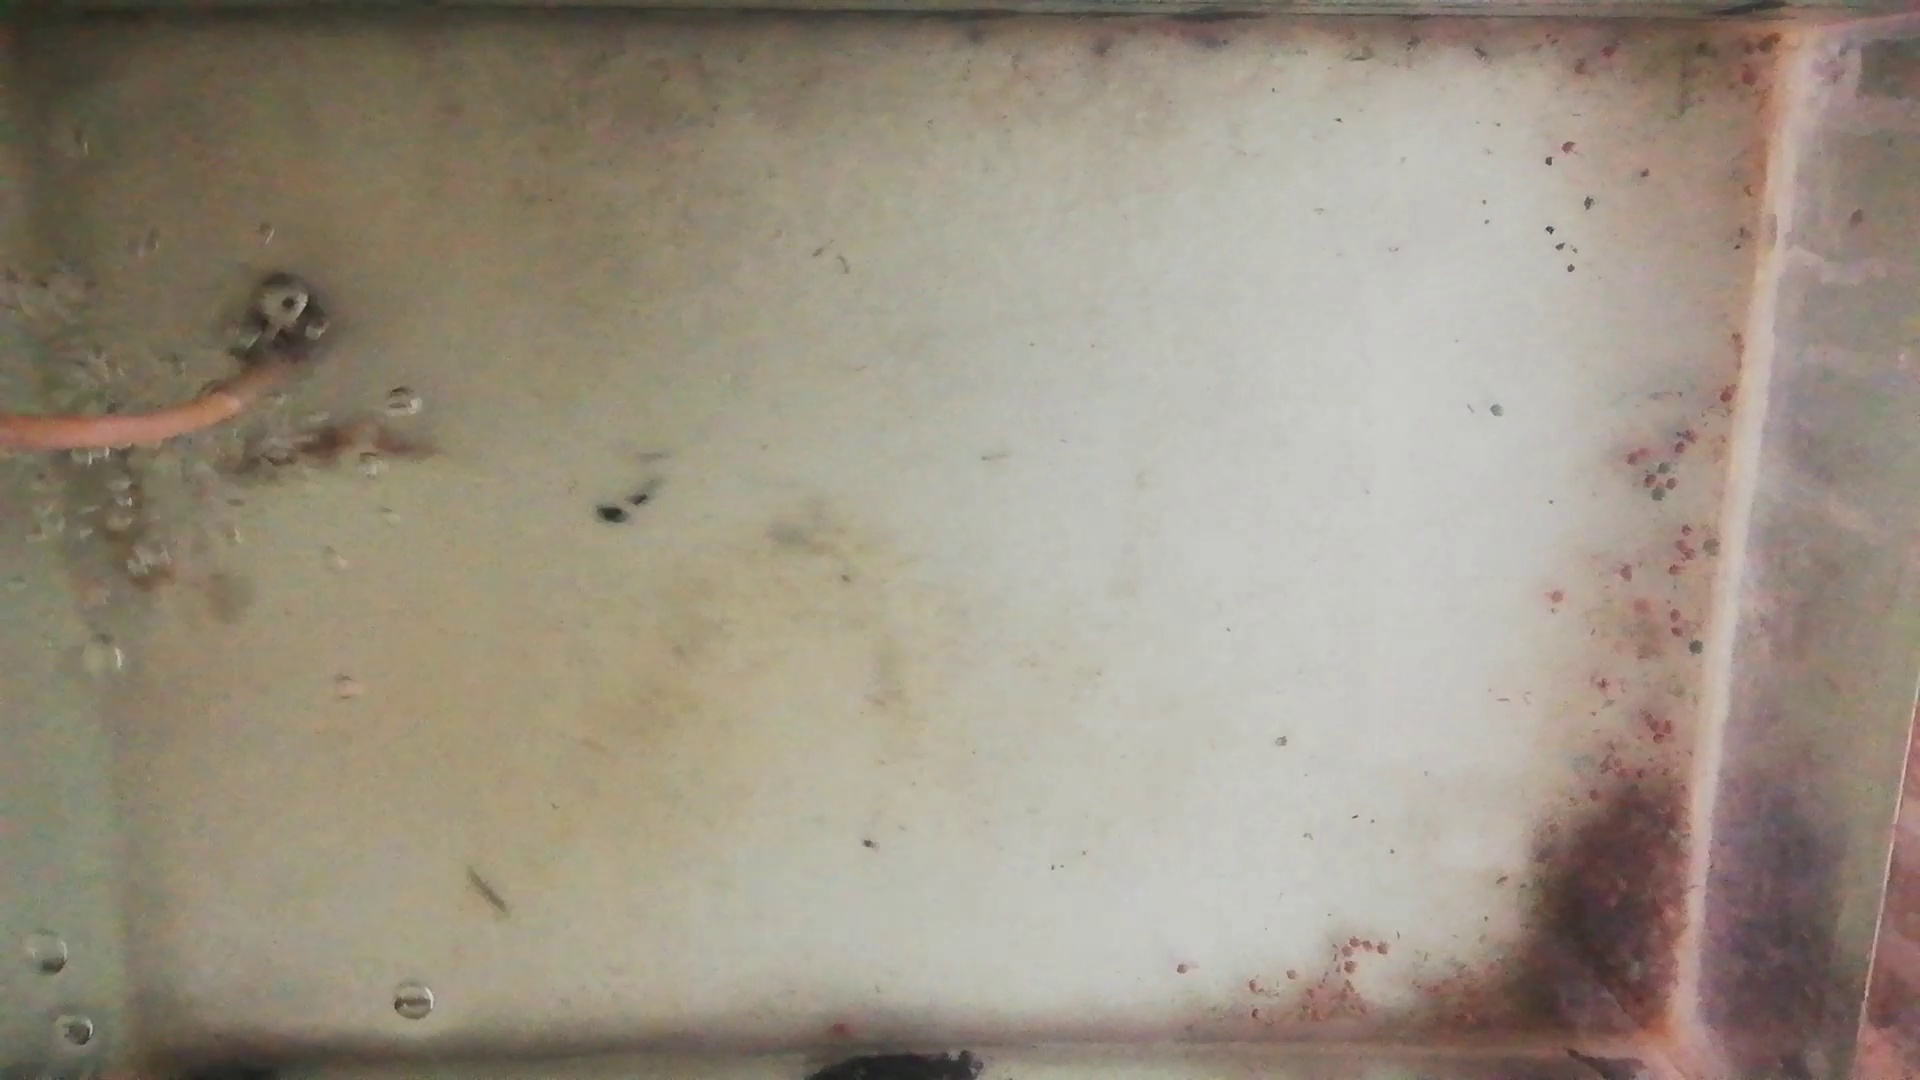fish: (218, 415, 427, 483), (87, 454, 173, 591)
